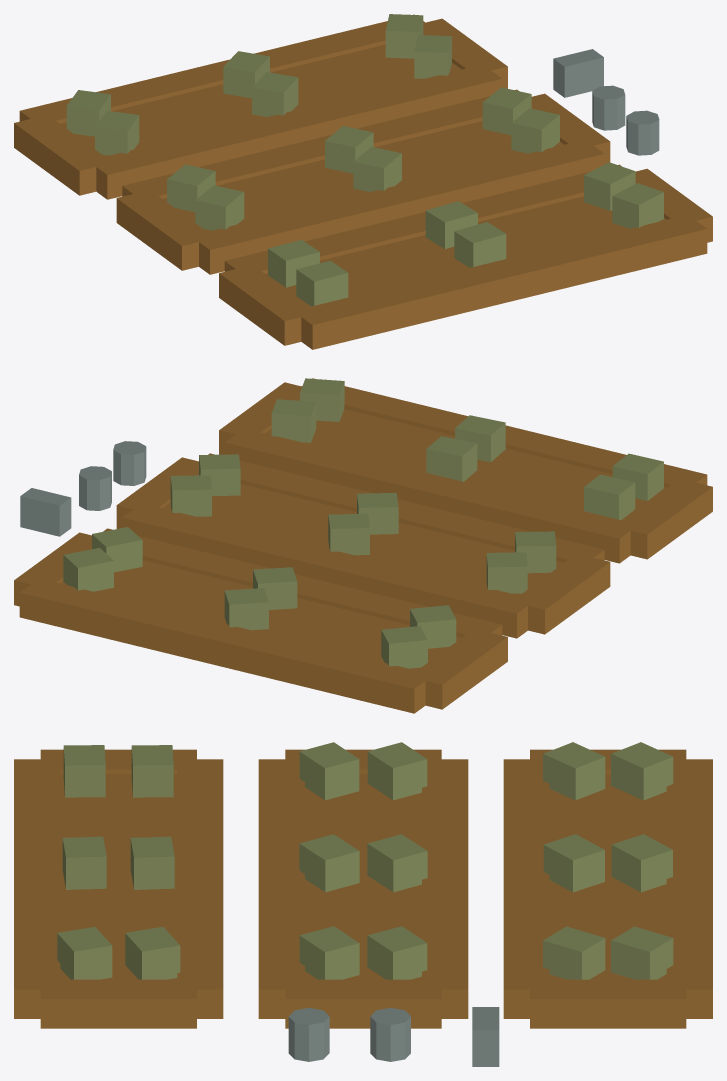
Rendered from SM_Bancales_v2_Regadera_LOD1.fbx.
3 renders of one model, top to bottom at view 1: azimuth 30°, elevation 25°; view 2: azimuth 150°, elevation 25°; view 3: azimuth 270°, elevation 25°, orthographic. The views are drawn at different scales.
Visible parts, largest first — view 1: SM_vida_fuerte_v12_LOD1; view 2: SM_vida_fuerte_v12_LOD1; view 3: SM_vida_fuerte_v12_LOD1.
Boxes of the visible parts, left/top/right/bottom form: SM_vida_fuerte_v12_LOD1: left=14, top=14, right=712, bottom=349; SM_vida_fuerte_v12_LOD1: left=14, top=378, right=712, bottom=713; SM_vida_fuerte_v12_LOD1: left=14, top=742, right=712, bottom=1066.
Bounding box in the file's own units: 5.07 × 0.46 × 5.14.
